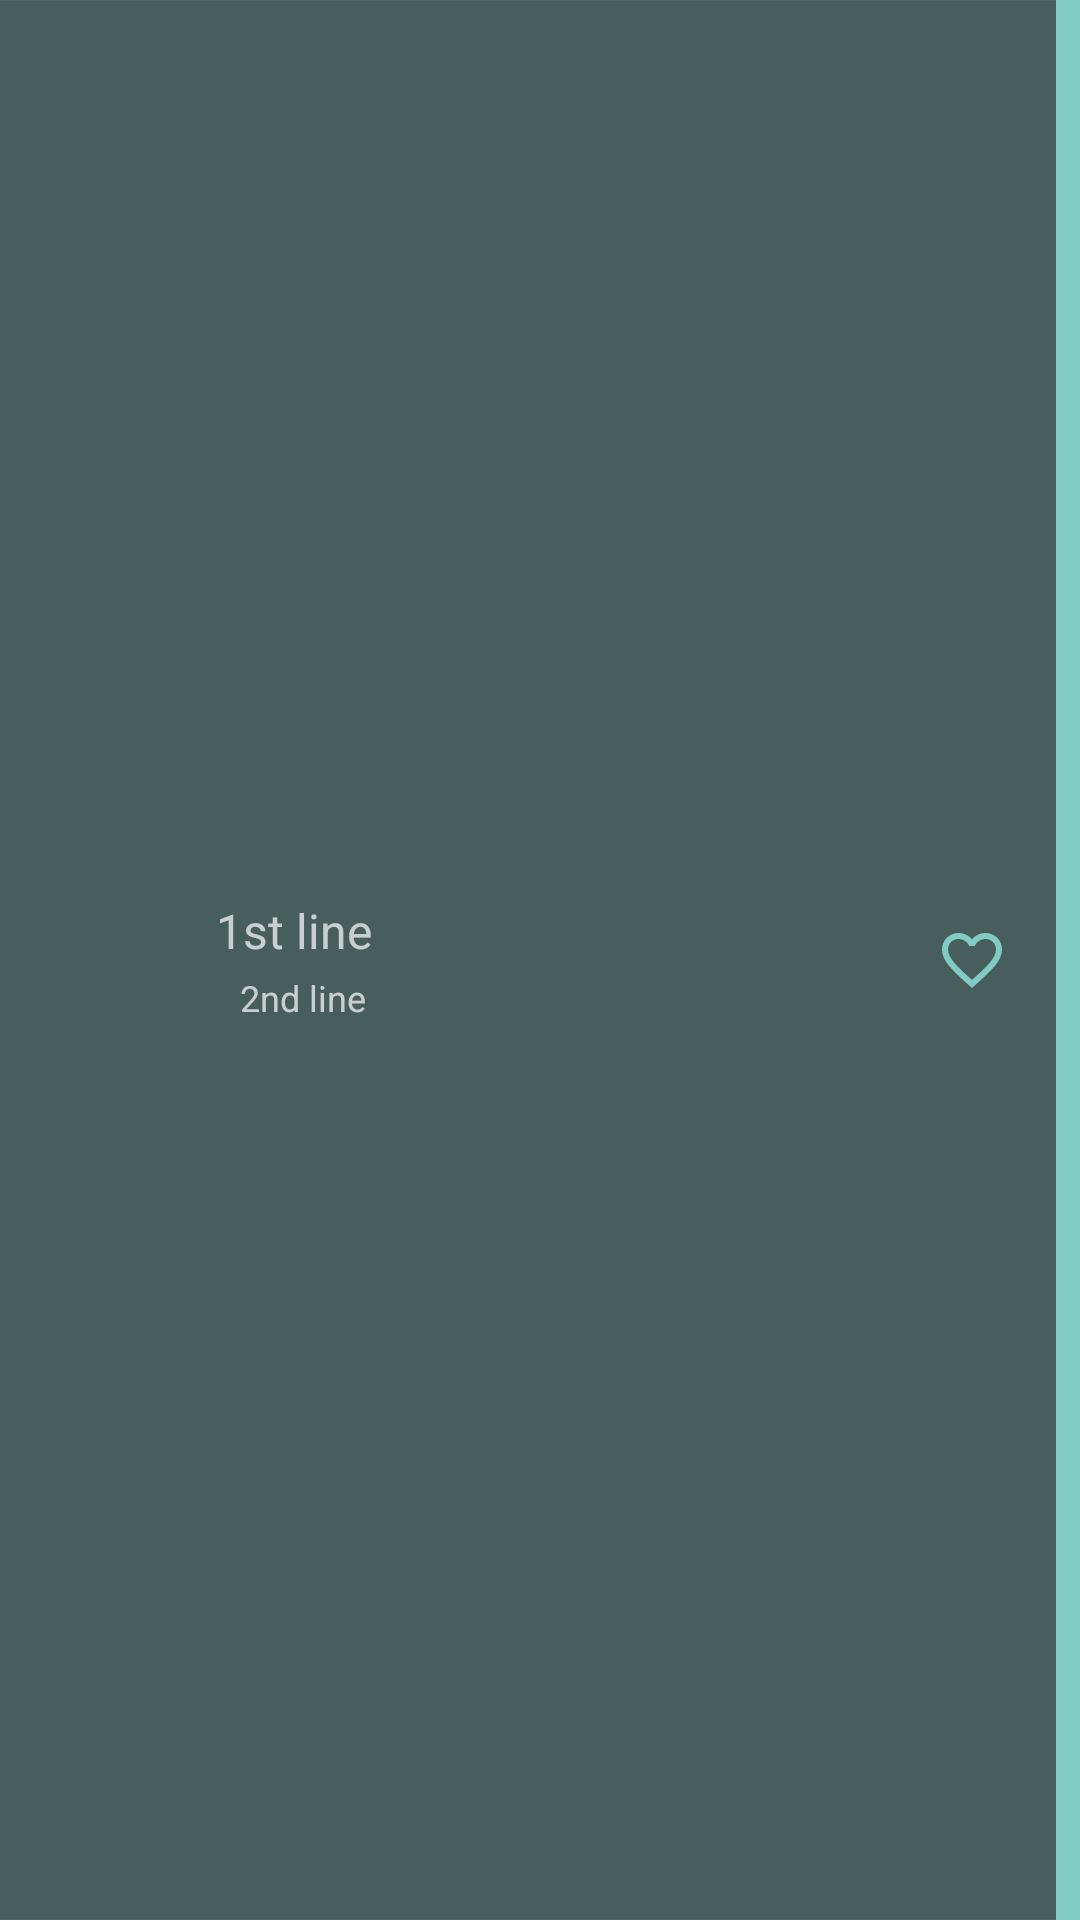

Named icons in this screenshot (1080w x 1920h) and their centers, (x,y):
avd heart break: (972,960)
